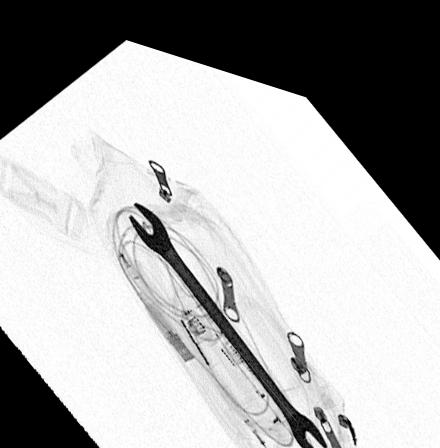Wrench: (128, 193, 327, 440)
